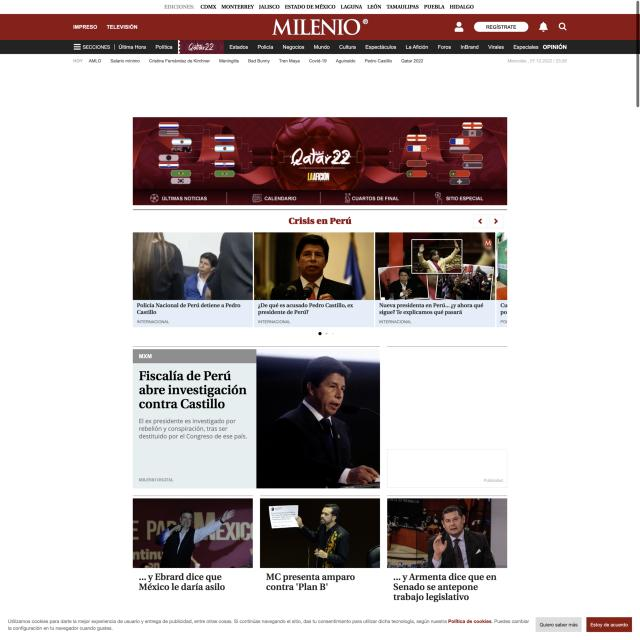logo: (270, 17, 372, 38)
navigation: (81, 43, 570, 52), (199, 1, 476, 12), (72, 57, 428, 65), (69, 24, 142, 32), (72, 43, 82, 51)
